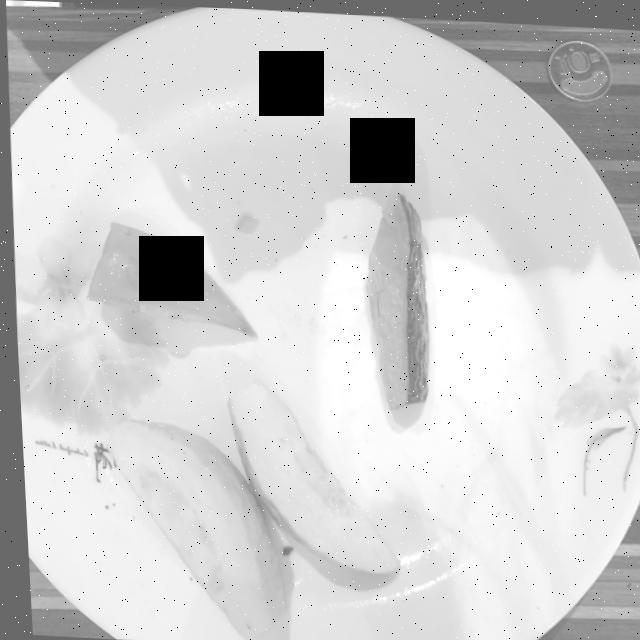coin: (547, 35, 612, 95)
guava -sliced-: (102, 378, 392, 636)
pumpkin: (362, 189, 424, 406)
